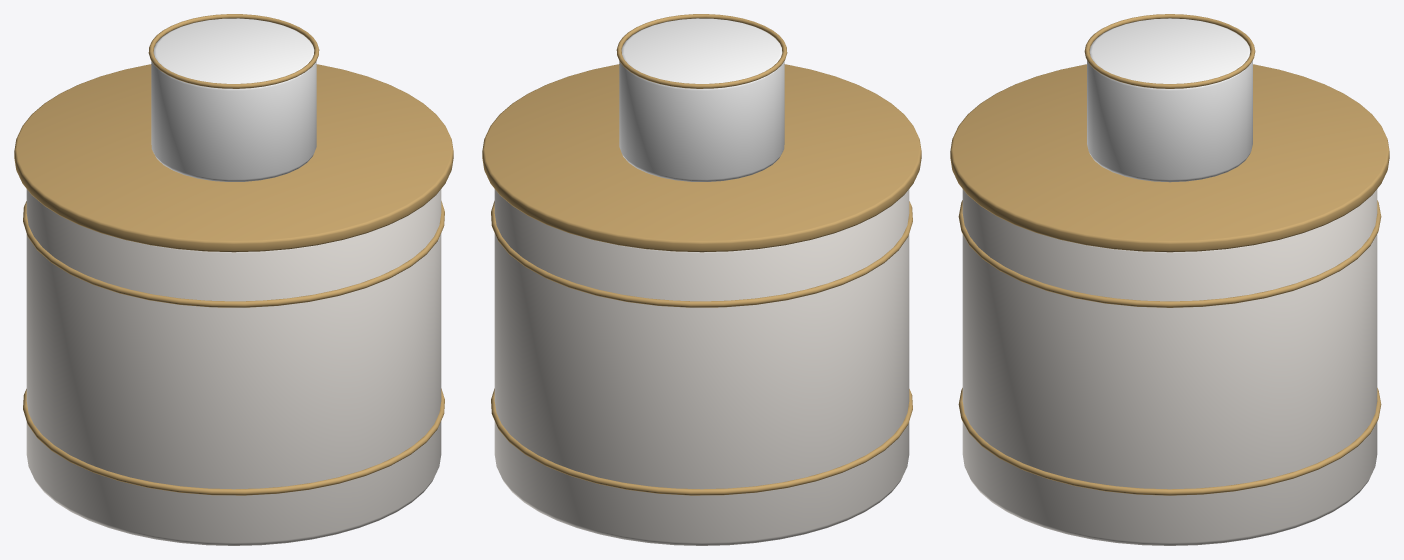
File: furn_display.glb
3 views of the same model, side by side, from view 1: azimuth 30°, elevation 25°; view 2: azimuth 150°, elevation 25°; view 3: azimuth 270°, elevation 25° (orthographic).
Visible parts, largest first — view 1: Cylinder; view 2: Cylinder; view 3: Cylinder.
Part boxes in pixels (box(x1,y1,x2,y2)): Cylinder: box(14, 14, 453, 545); Cylinder: box(482, 14, 921, 545); Cylinder: box(950, 14, 1389, 545).
Size of the model in its own units: 1.06 by 1.1 by 1.06.
